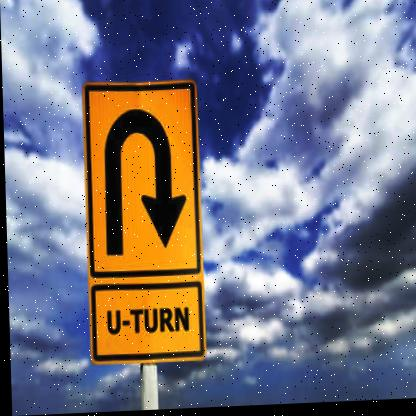U-turn: (88, 86, 200, 280)
